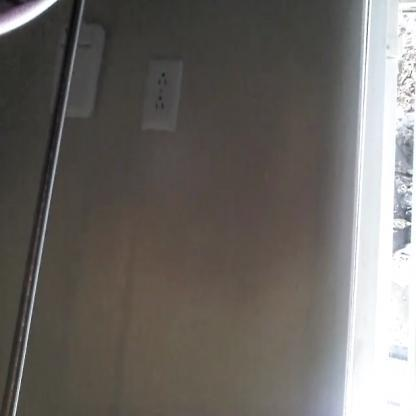OUTLET: (143, 60, 182, 130)
